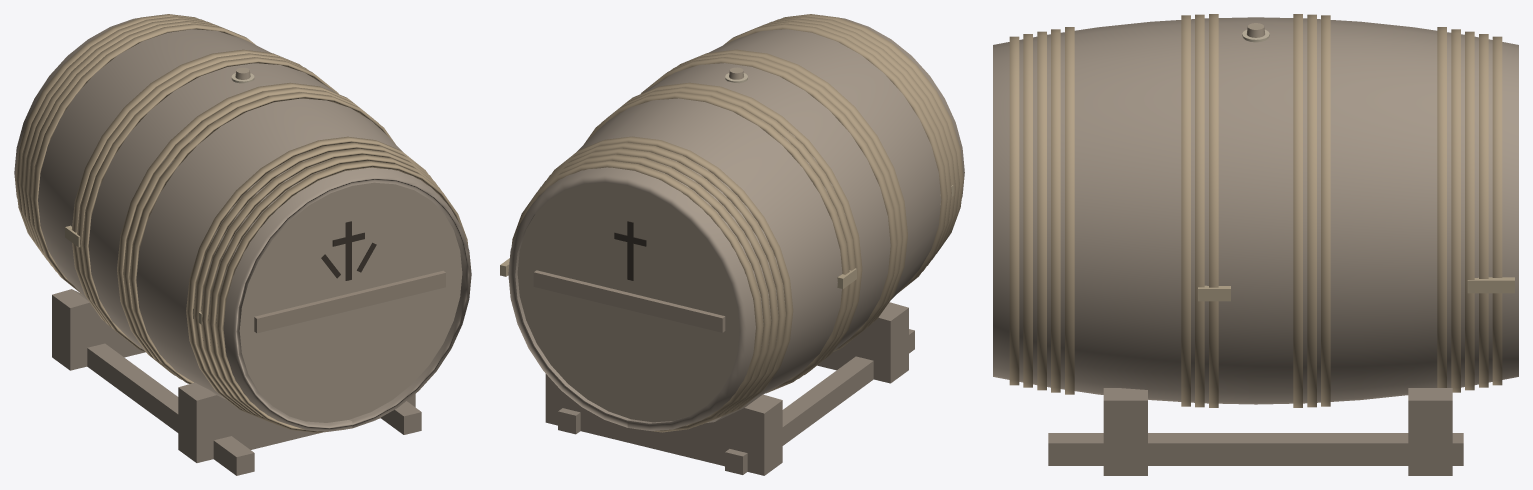
Rendered from wine-tun.glb.
The picture shows the model from 3 angles, left to right: view 1: azimuth 30°, elevation 25°; view 2: azimuth 150°, elevation 25°; view 3: azimuth 270°, elevation 25°; orthographic projection. The views are drawn at different scales.
Visible parts, largest first — view 1: brand-back-cross; view 2: brand-back-cross; view 3: brand-back-cross.
Part boxes in pixels (<box>): brand-back-cross: <box>14,14,471,475</box>; brand-back-cross: <box>500,14,964,475</box>; brand-back-cross: <box>993,14,1518,475</box>.
Bounding box in the file's own units: 1.44 × 1.53 × 1.9.
